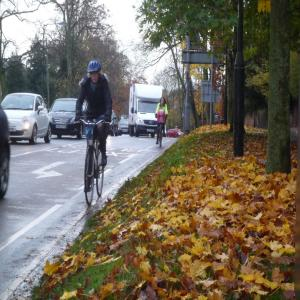Vehicle-registration-plate: (57, 125, 67, 130), (10, 128, 17, 135)
